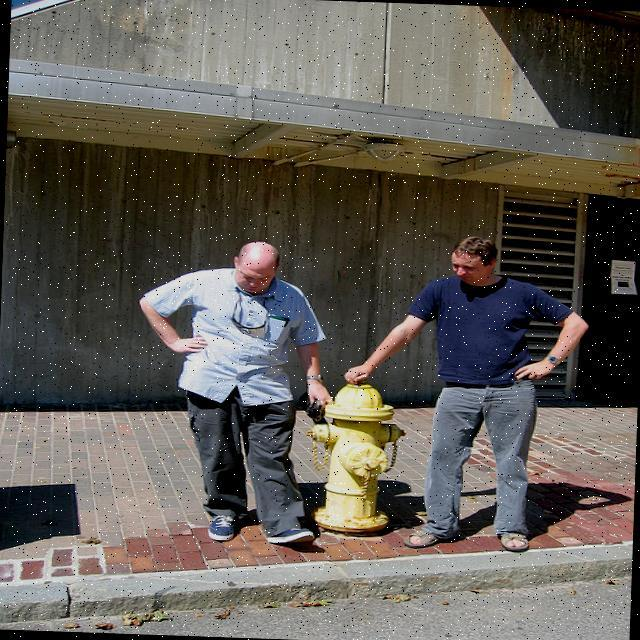fire_hydrant: (299, 380, 411, 536)
